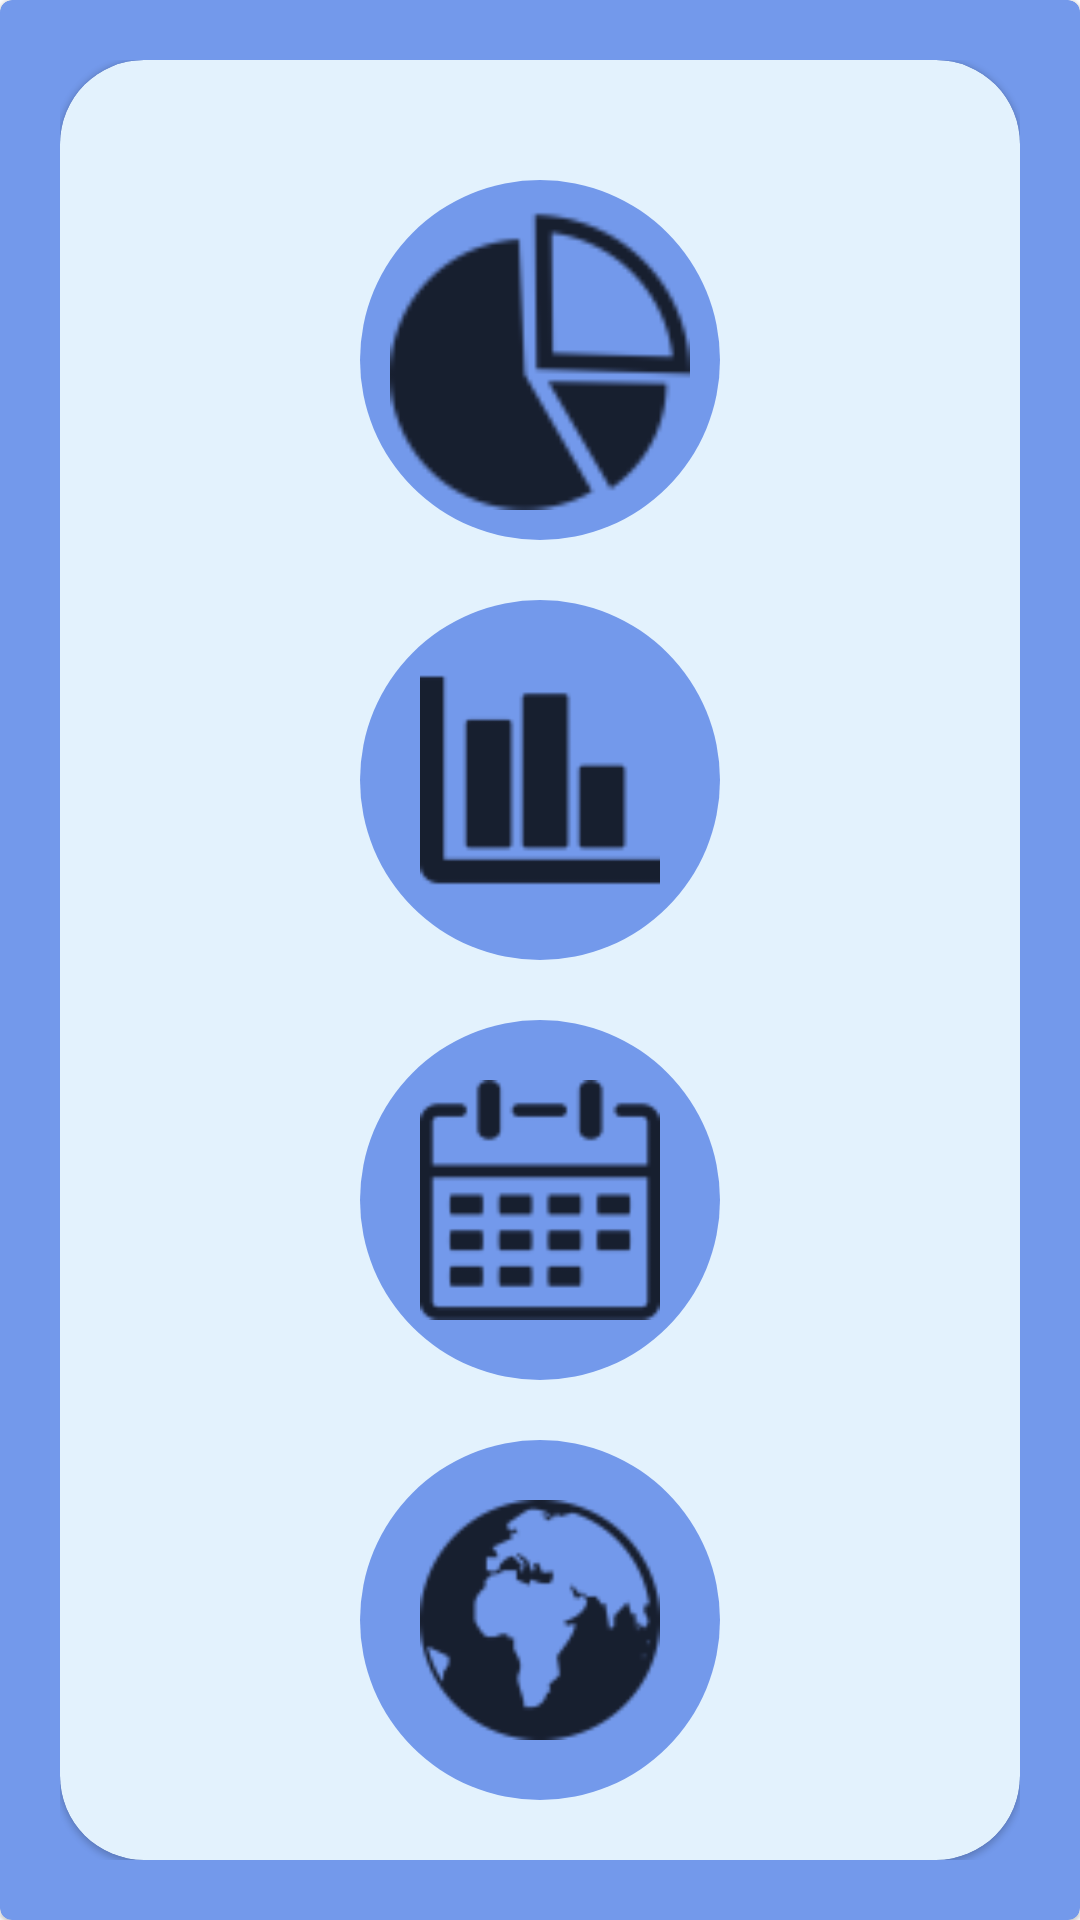

Icon bounding boxes for this 1080px×1920px phone screenshot, format (x1, y1, x2, y2):
calendar: (360, 1020, 720, 1380)
column chart: (360, 600, 720, 960)
globe: (360, 1440, 720, 1800)
pie chart: (360, 180, 720, 540)
